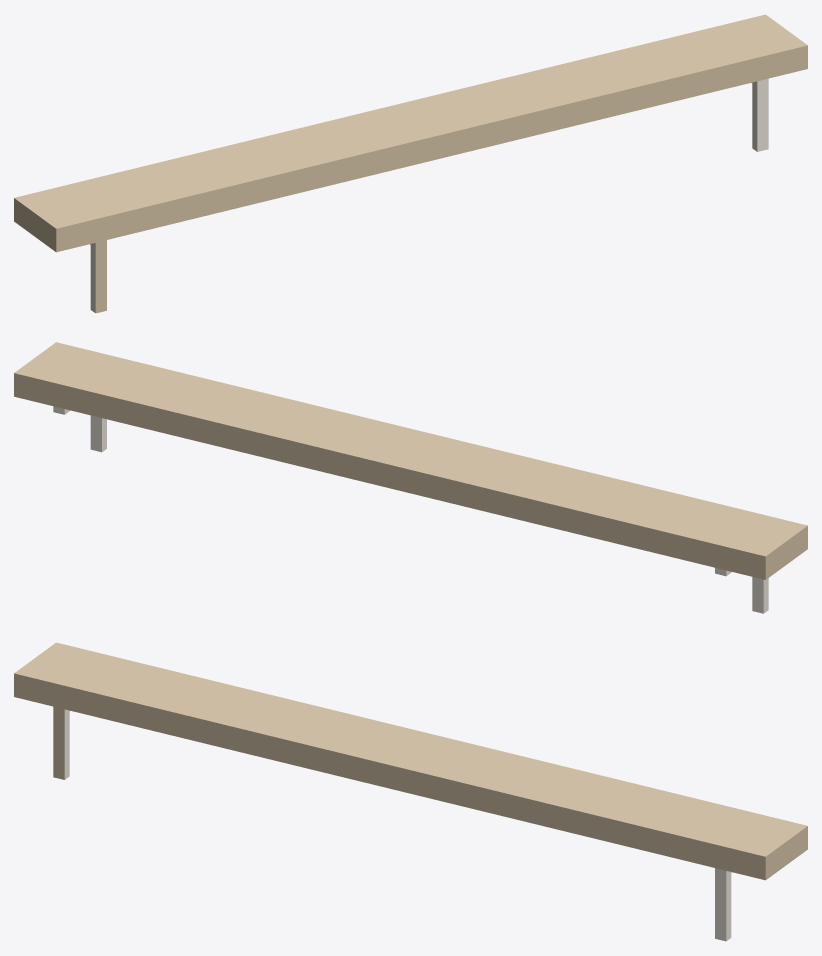
The model's file is Wall_Plank.fbx.
3 renders of one model, top to bottom at view 1: azimuth 30°, elevation 25°; view 2: azimuth 150°, elevation 25°; view 3: azimuth 330°, elevation 25°, orthographic.
Parts seen in each view (by area): view 1: WallPlank; view 2: WallPlank; view 3: WallPlank.
Part boxes in pixels (x1,y1,x2,y2): WallPlank: (14,14,807,313); WallPlank: (14,342,807,613); WallPlank: (14,642,807,941).
Bounding box in the file's own units: 134 × 16 × 13.
